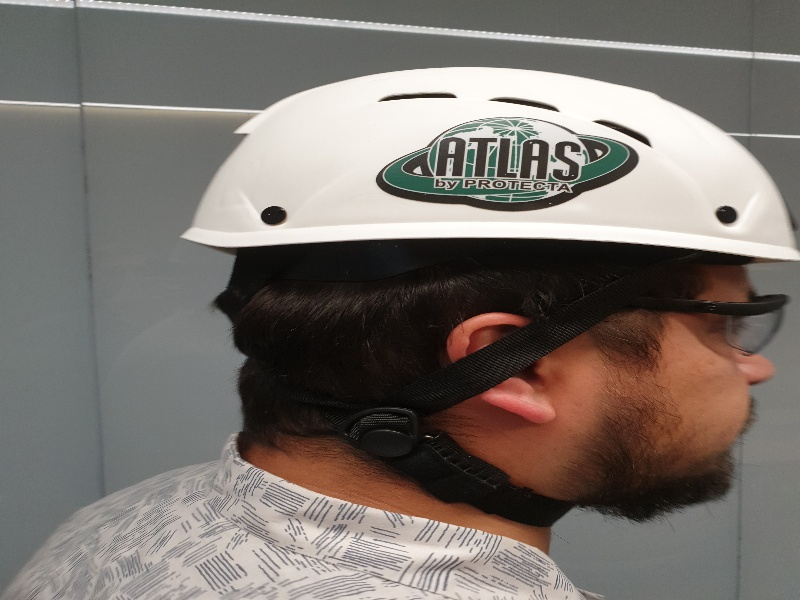Baret: (181, 63, 796, 264)
Gozluk: (607, 288, 798, 371)
